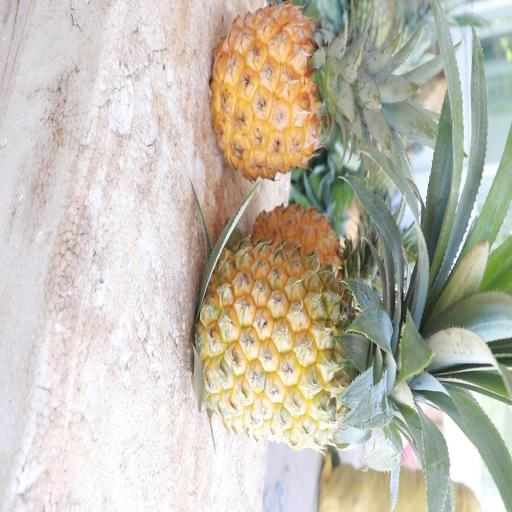Pineapple - v8 v1: (195, 244, 448, 458), (205, 5, 385, 185), (242, 199, 372, 312)
